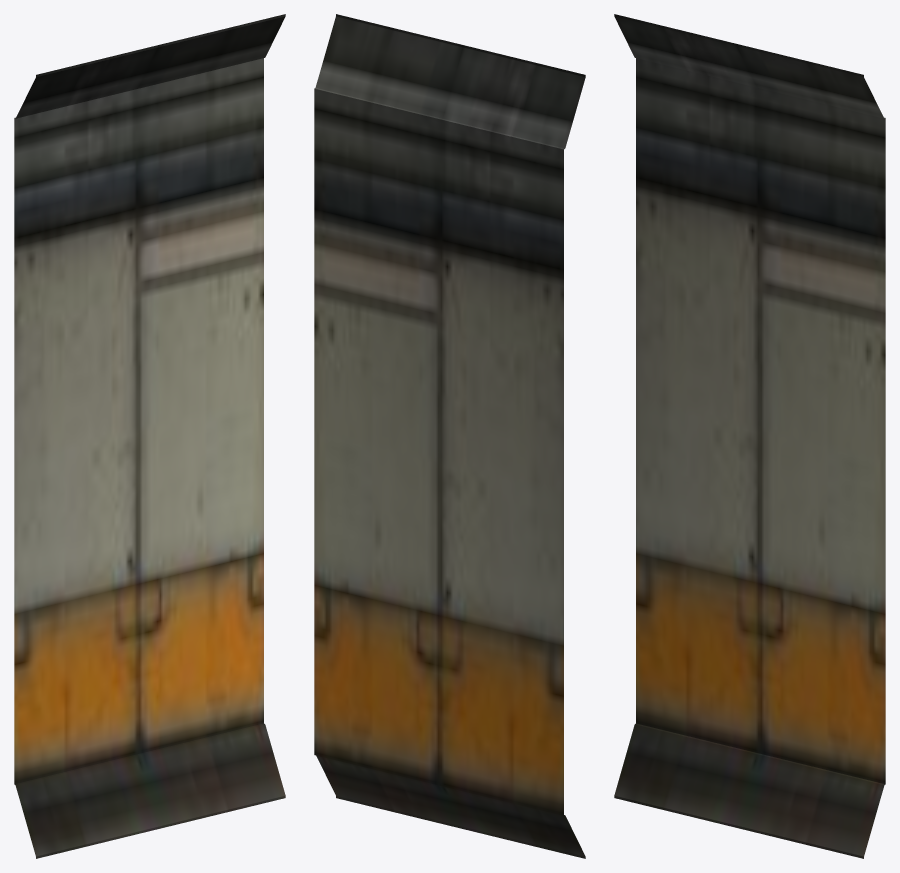
File: wall_narrow_2.glb
The picture shows the model from 3 angles, left to right: view 1: azimuth 30°, elevation 25°; view 2: azimuth 150°, elevation 25°; view 3: azimuth 330°, elevation 25°; orthographic projection.
Visible parts, largest first — view 1: Wall; view 2: Wall; view 3: Wall.
Part boxes in pixels (bbox=[...]): Wall: bbox=[14, 14, 285, 858]; Wall: bbox=[314, 14, 585, 858]; Wall: bbox=[614, 14, 885, 858].
Bounding box in the file's own units: 2 × 6 × 0.3.
1 material, 1 textured.
